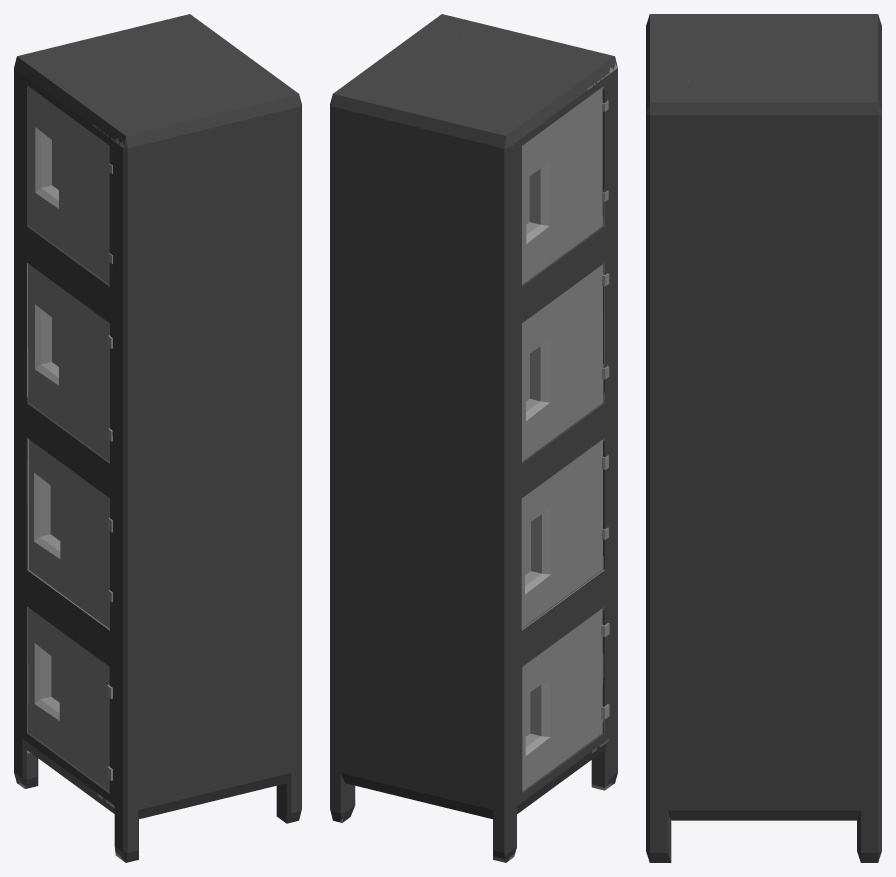
Rendered from locker.fbx.
The picture shows the model from 3 angles, left to right: view 1: azimuth 30°, elevation 25°; view 2: azimuth 150°, elevation 25°; view 3: azimuth 270°, elevation 25°; orthographic projection. The views are drawn at different scales.
Visible parts, largest first — view 1: locker.001; view 2: locker.001; view 3: locker.001.
Boxes of the visible parts, x1,y1,x2,y2 form: locker.001: [14, 14, 301, 862]; locker.001: [330, 14, 617, 862]; locker.001: [646, 14, 881, 862].
Size of the model in its own units: 99.06 by 380 by 107.
Materials: 1 (1 with a texture image).
